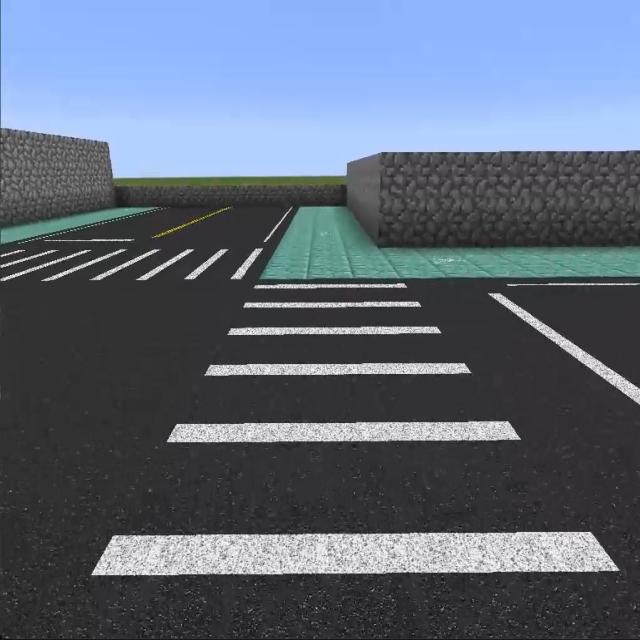crosswalk: (58, 282, 639, 639), (0, 242, 277, 290)
road: (7, 287, 244, 639), (434, 276, 637, 516), (32, 206, 296, 248)
sidewalk: (262, 207, 639, 278), (0, 208, 153, 244)
